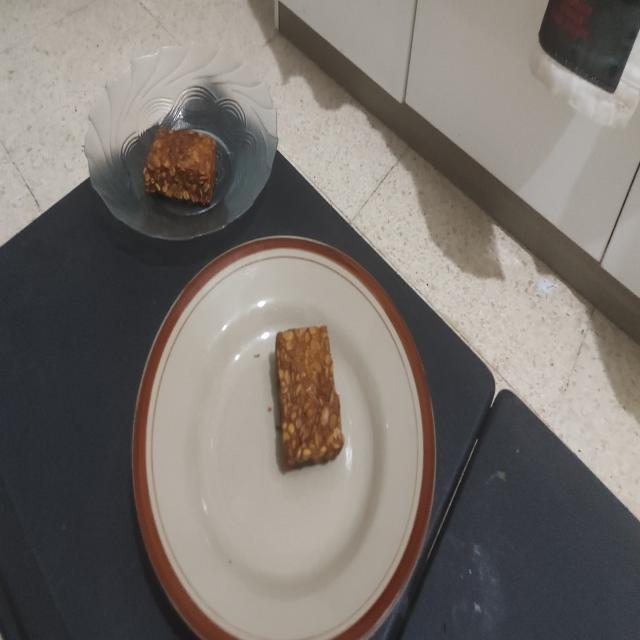tempe_goreng: (276, 326, 344, 468), (143, 129, 216, 206)
